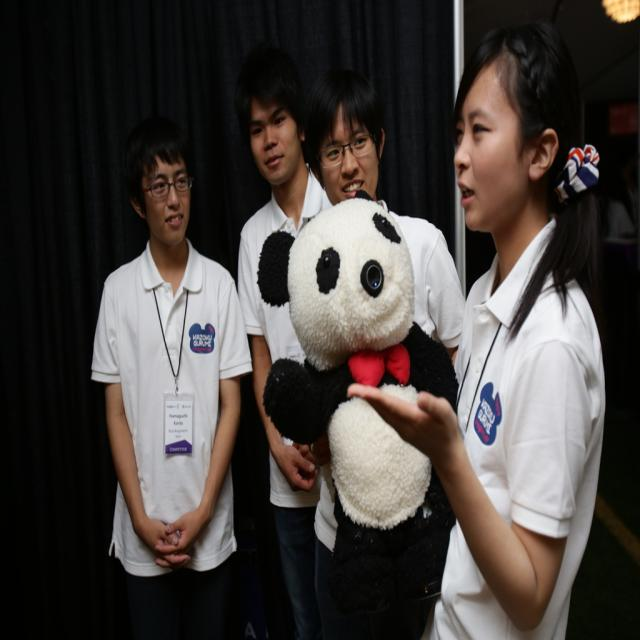panda: (254, 188, 458, 639)
